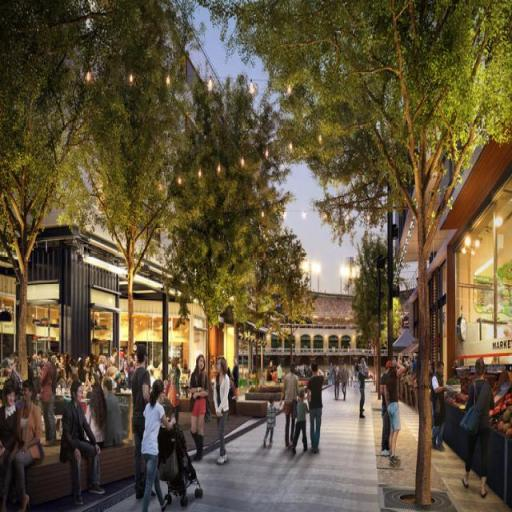person: (58, 382, 110, 508), (143, 382, 179, 512), (127, 349, 157, 499), (462, 358, 492, 497), (12, 380, 43, 512), (2, 379, 23, 512), (99, 377, 129, 452), (386, 361, 406, 469), (84, 378, 111, 452), (279, 361, 301, 450), (190, 354, 207, 463), (215, 359, 232, 466), (308, 364, 324, 457), (433, 361, 448, 453), (291, 388, 310, 457), (41, 353, 54, 448), (381, 361, 392, 459), (263, 396, 282, 449), (167, 359, 182, 426), (51, 355, 60, 446), (355, 365, 368, 421), (340, 363, 352, 401), (233, 355, 241, 400), (334, 368, 342, 403), (279, 365, 284, 384)
